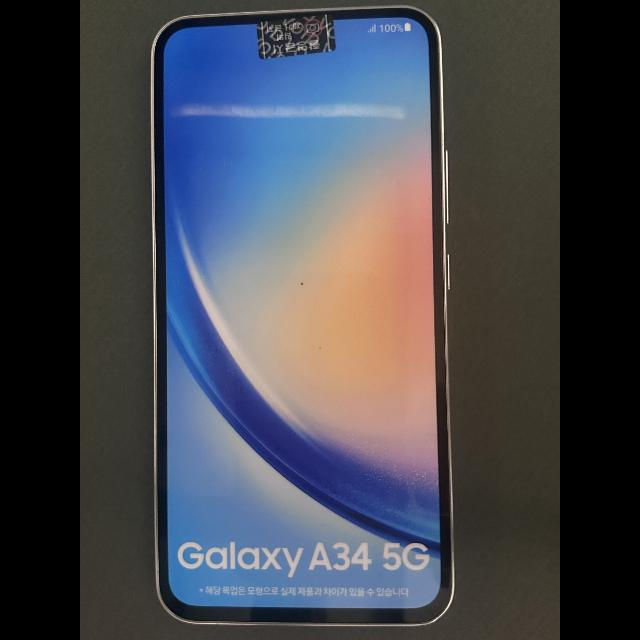phone: (149, 5, 455, 626)
sticker: (256, 13, 336, 60)
